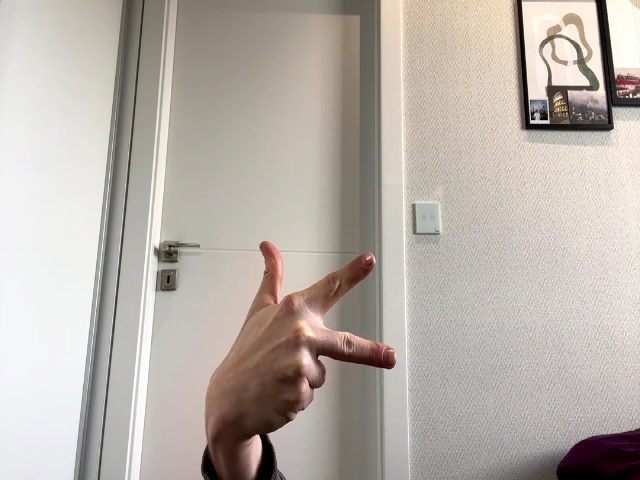K: (208, 241, 397, 427)
